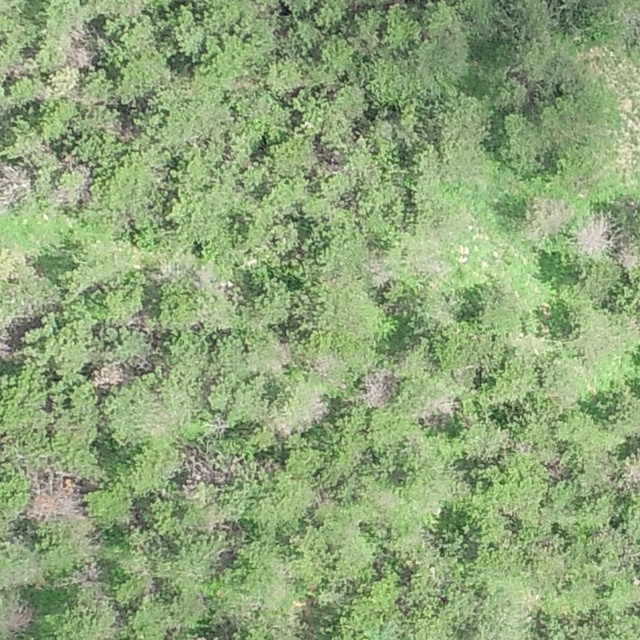unhealthy: (27, 466, 83, 521), (526, 196, 573, 238), (574, 213, 613, 254), (184, 451, 228, 487), (357, 367, 394, 408), (0, 159, 29, 209), (419, 395, 456, 428), (90, 361, 130, 390), (365, 254, 394, 286), (4, 603, 36, 632), (59, 150, 91, 178), (63, 44, 96, 69), (69, 562, 103, 586), (195, 262, 220, 292), (51, 183, 80, 208), (306, 394, 330, 422), (615, 242, 639, 270), (541, 456, 570, 479), (621, 451, 639, 488), (271, 340, 292, 370), (313, 352, 339, 376), (6, 60, 37, 80), (210, 414, 229, 434), (272, 420, 292, 438), (0, 334, 12, 361), (515, 440, 533, 456)
